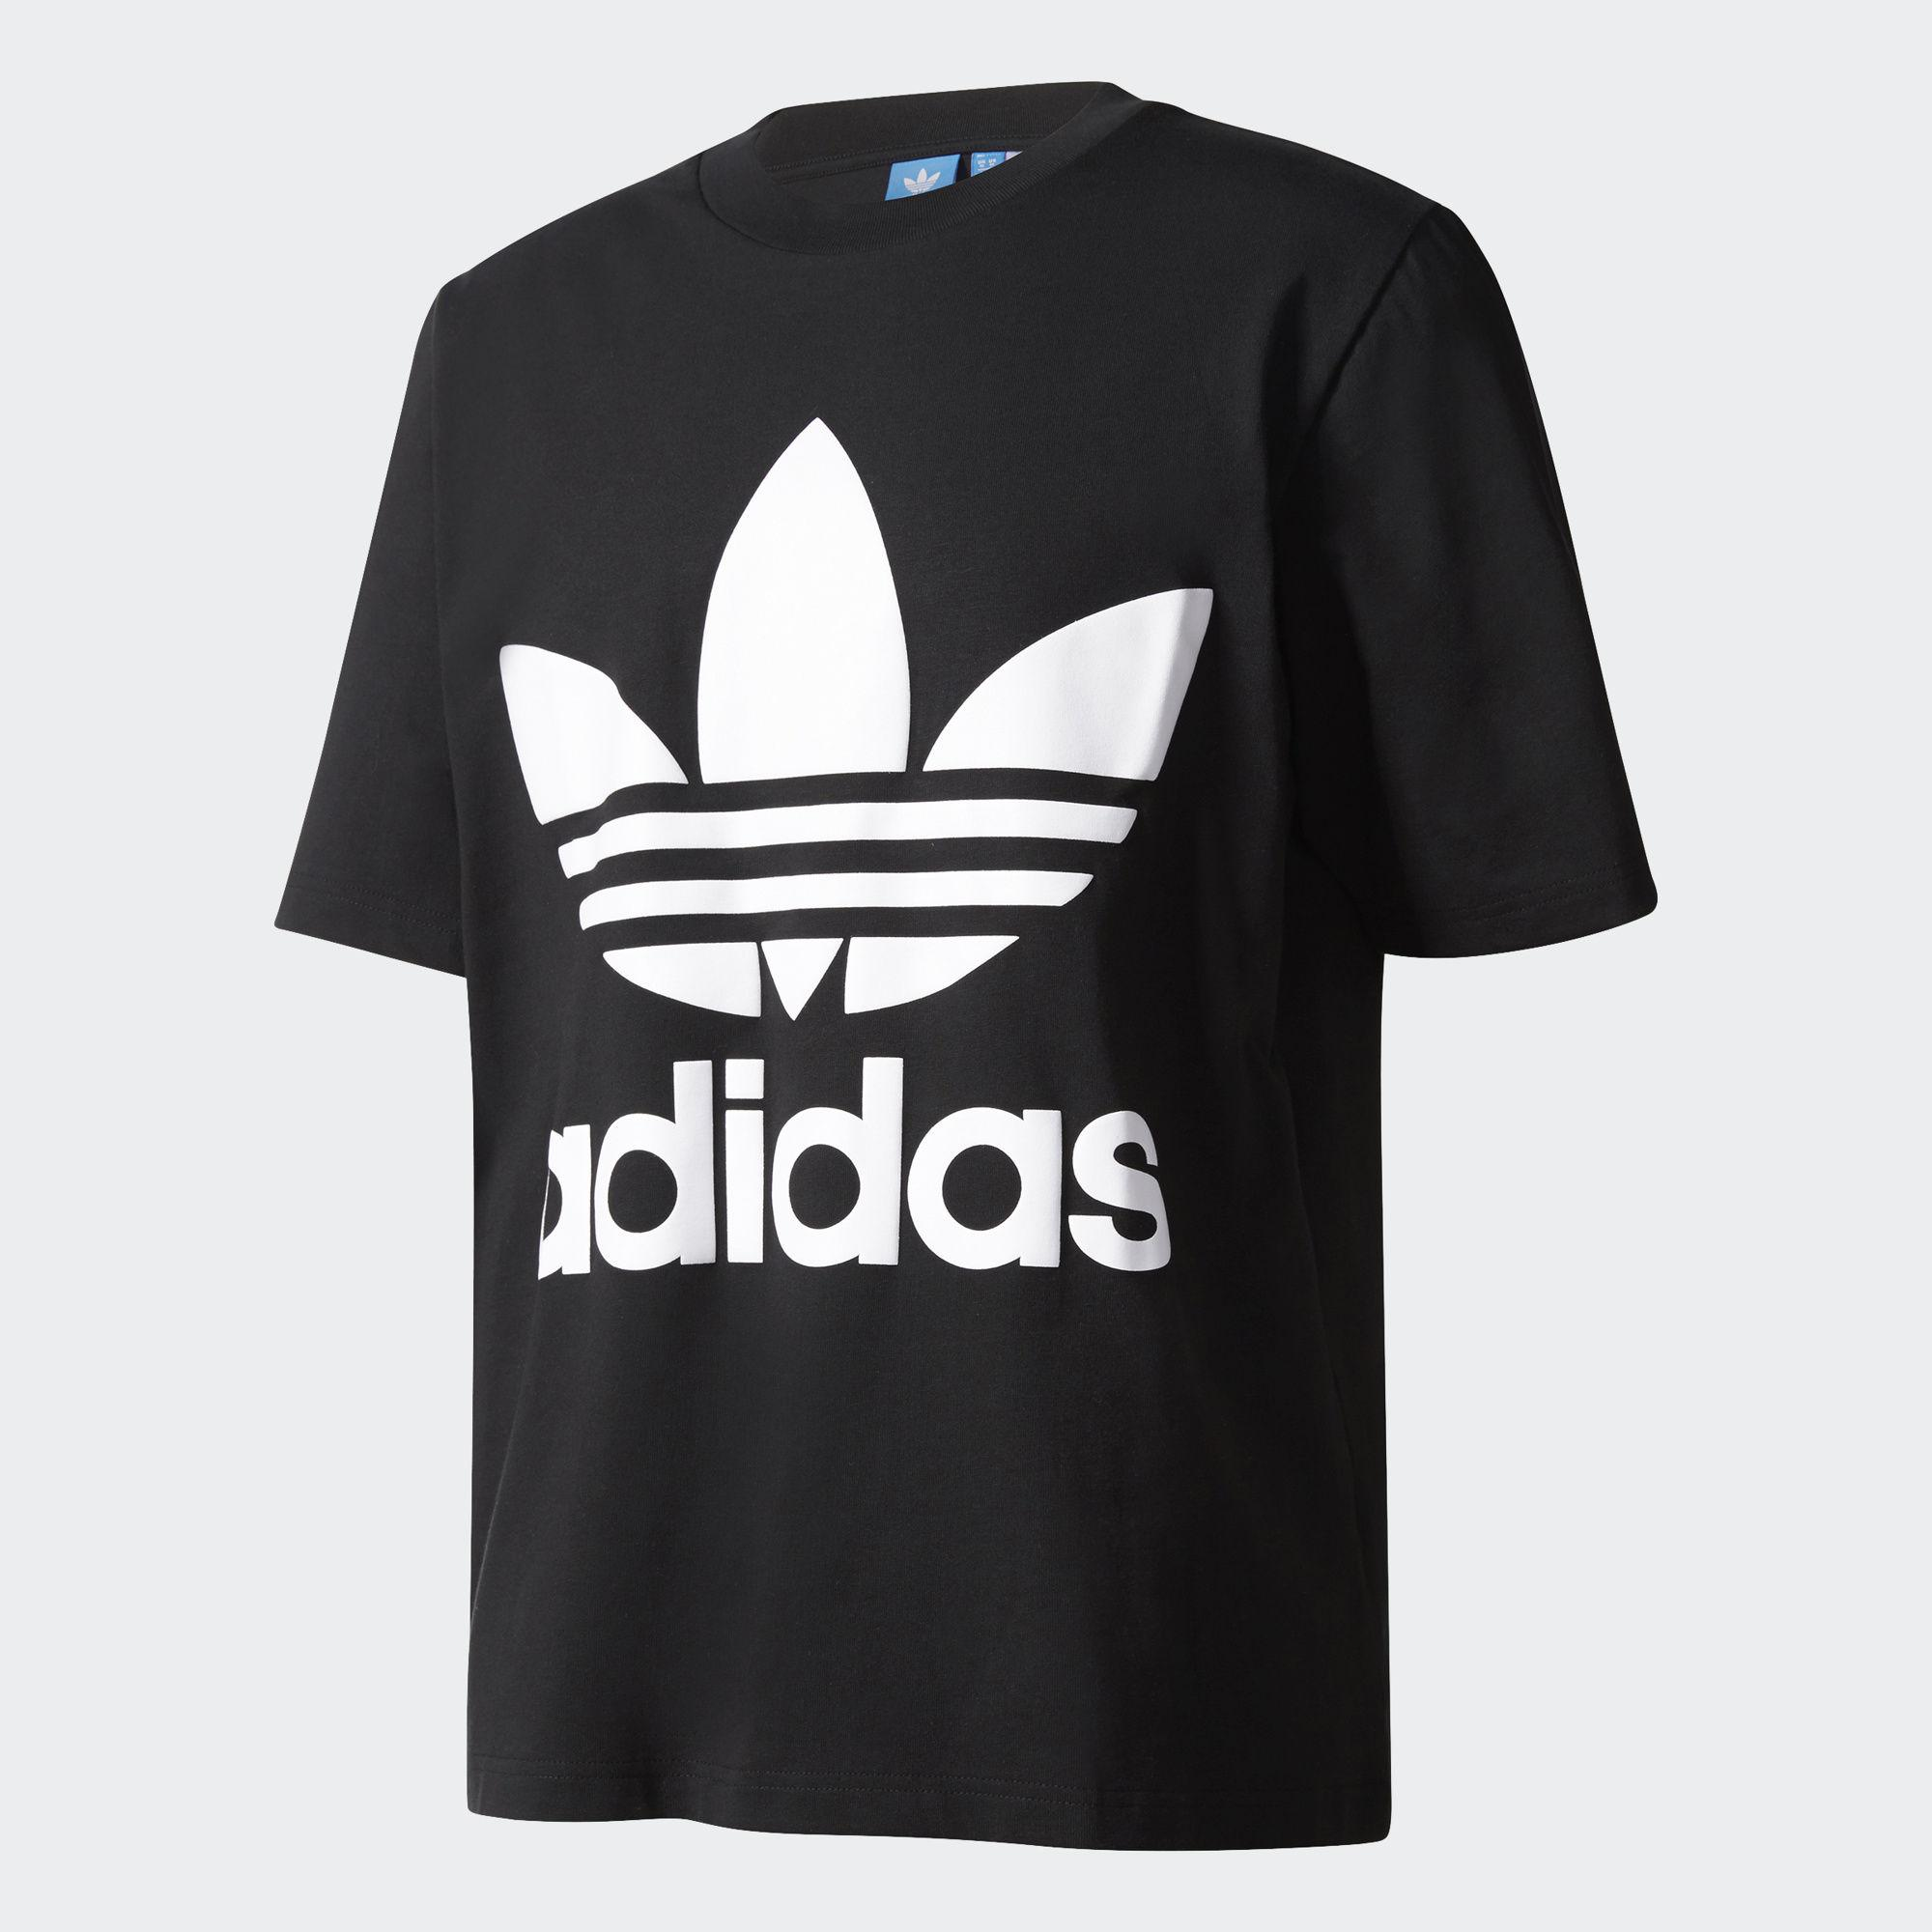teeshirt: (248, 64, 1652, 1858)
